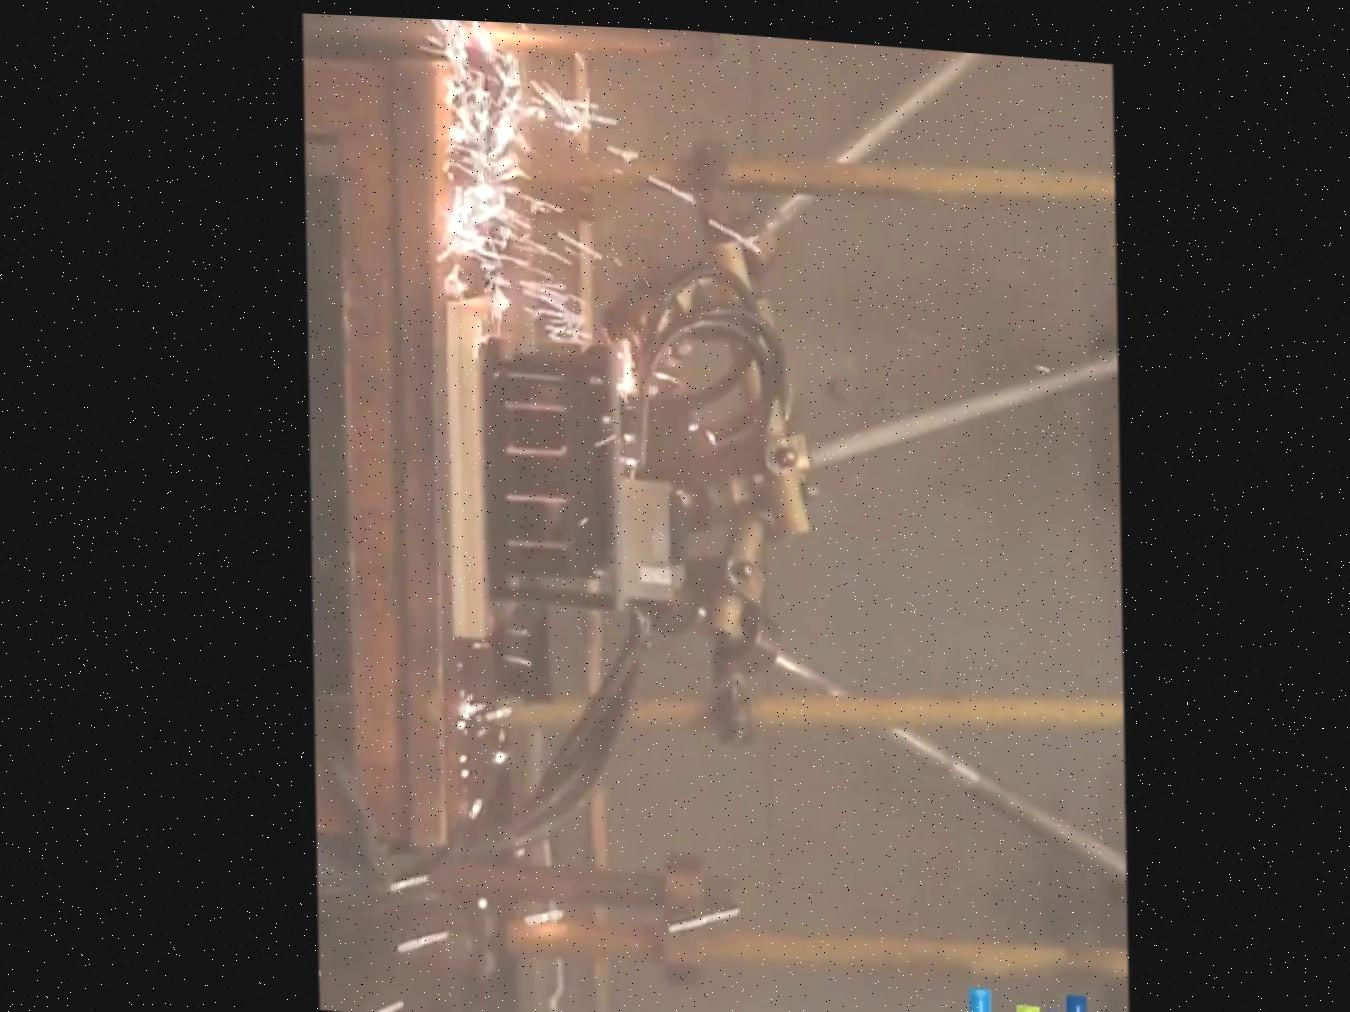fire: (316, 38, 892, 773)
